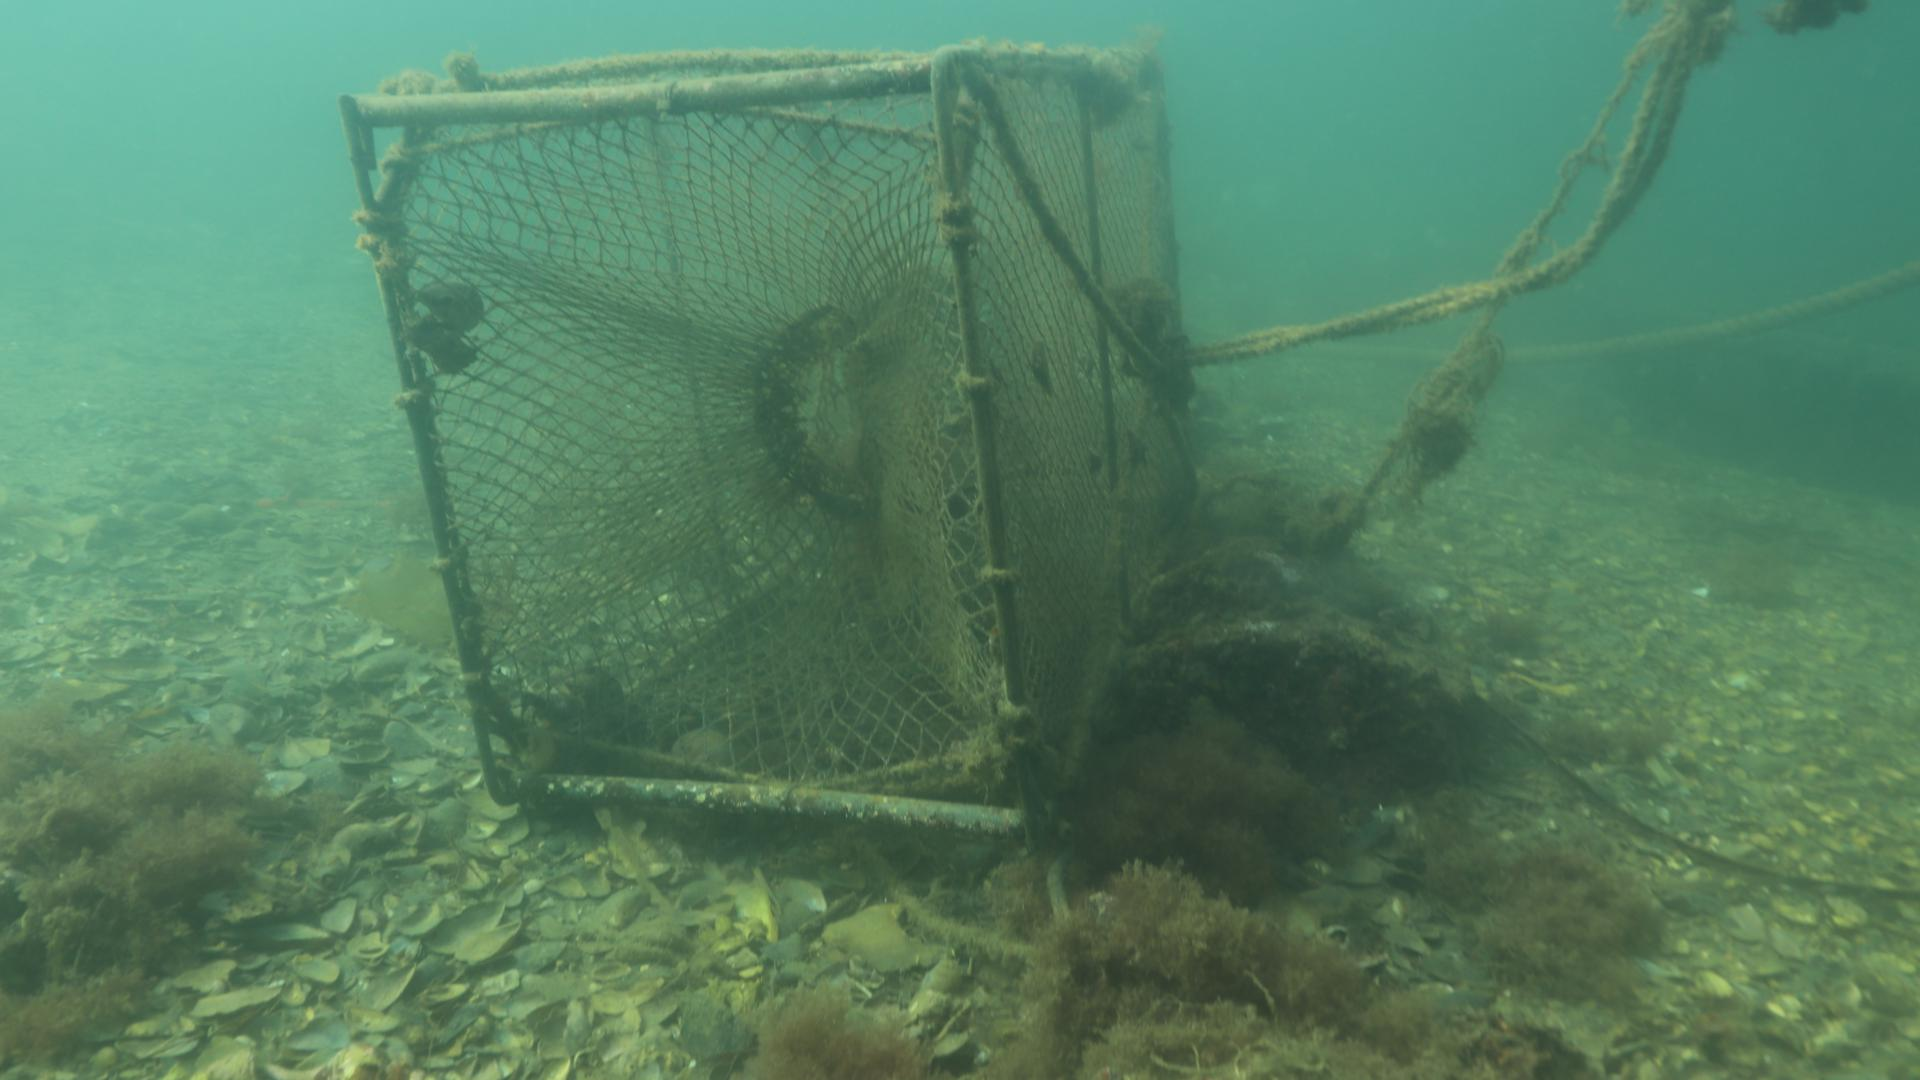bundle of ropes: (1188, 0, 1704, 365)
rectangular fish trap: (330, 40, 1204, 856)
